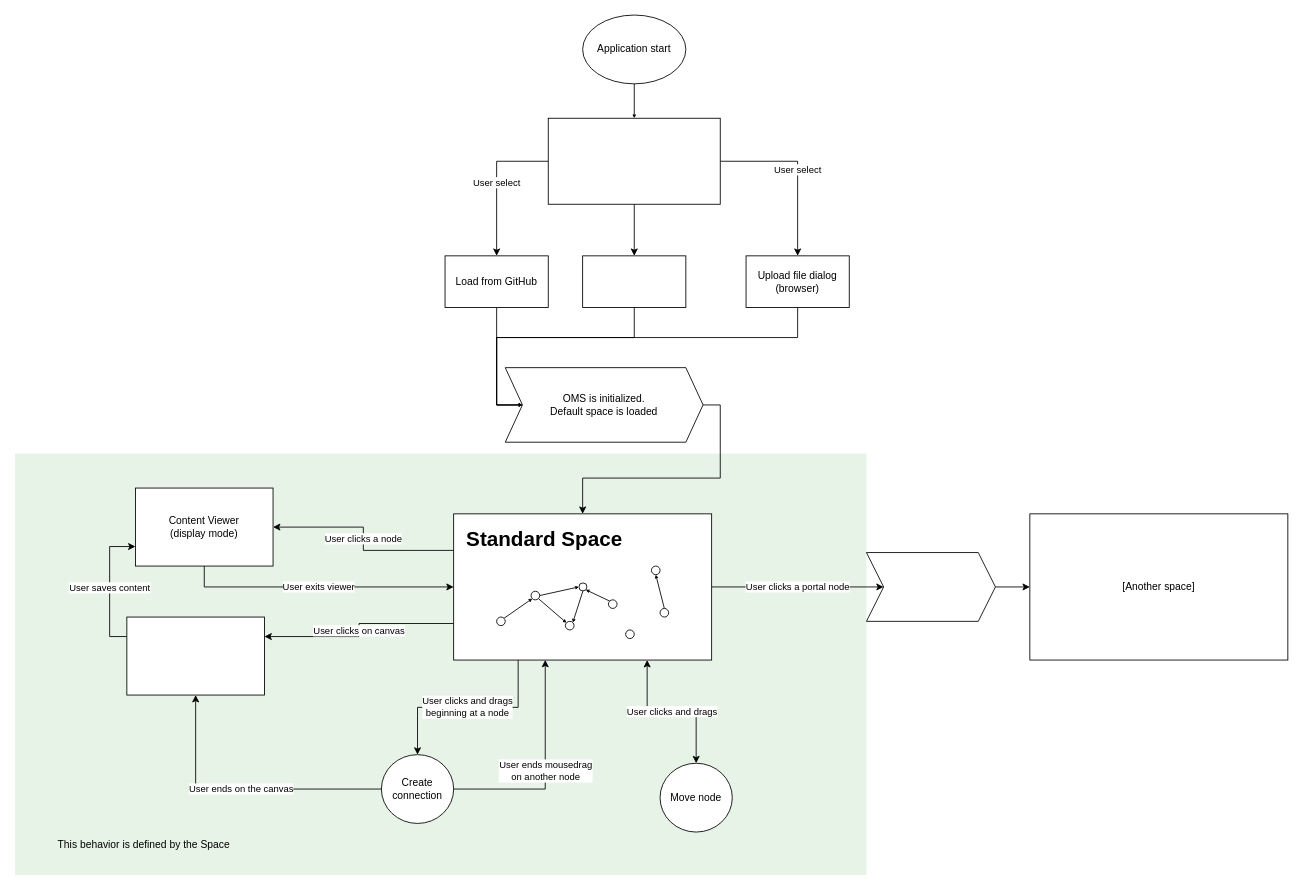
This 1303x890 diagram has some shape labels left out. Each missing label, with the box of its shape:
Content Viewer (creation mode): (126, 616, 264, 695)
Create new OMS page: (582, 255, 686, 307)
Load or Create screen: (547, 117, 720, 204)
Space unloads New space loads: (866, 552, 995, 621)
